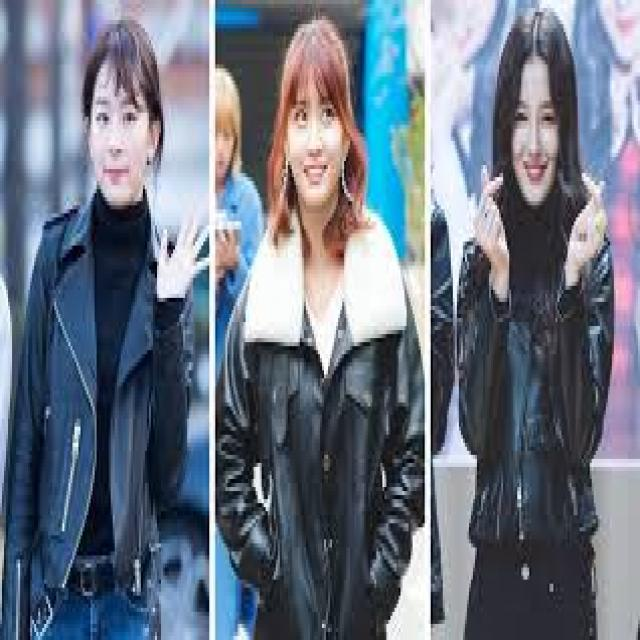Jacket: (0, 181, 210, 639), (217, 195, 422, 631), (454, 170, 618, 551)
